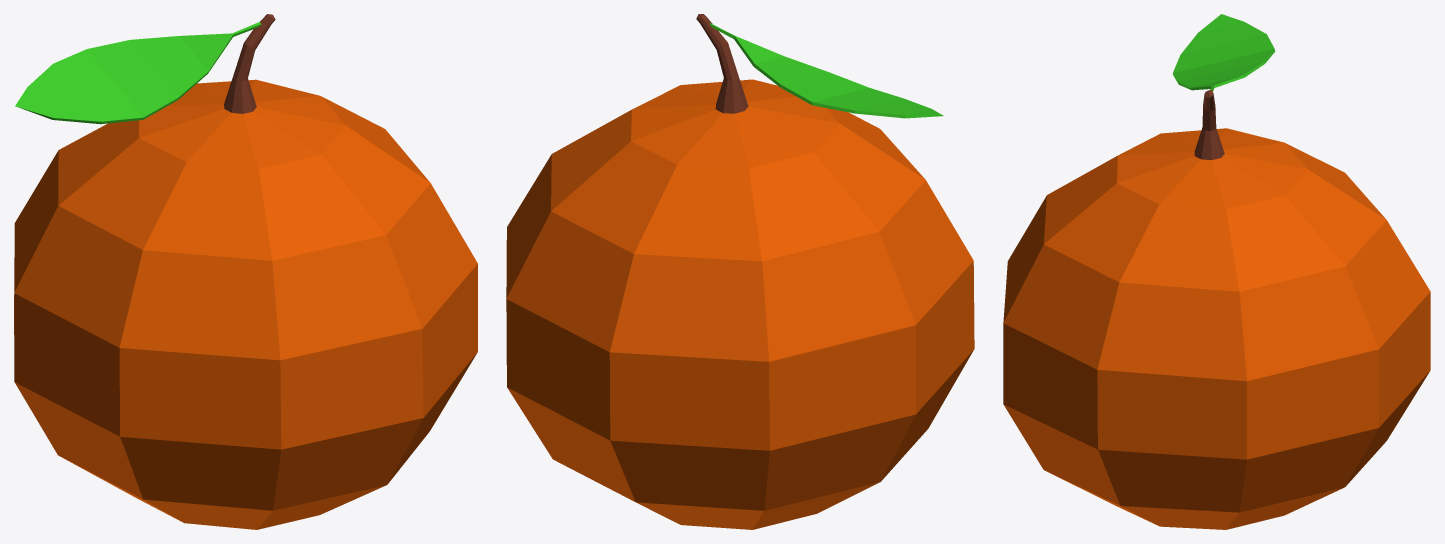
The model's file is Mandarijn.fbx.
3 renders of one model, left to right at view 1: azimuth 30°, elevation 25°; view 2: azimuth 150°, elevation 25°; view 3: azimuth 270°, elevation 25°, orthographic. The views are drawn at different scales.
Visible parts, largest first — view 1: Mandarijn; view 2: Mandarijn; view 3: Mandarijn.
Boxes of the visible parts, x1,y1,x2,y2 form: Mandarijn: [14, 14, 477, 529]; Mandarijn: [506, 14, 974, 529]; Mandarijn: [1003, 14, 1430, 529].
Bounding box in the file's own units: 6.31 × 6.88 × 6.17.
